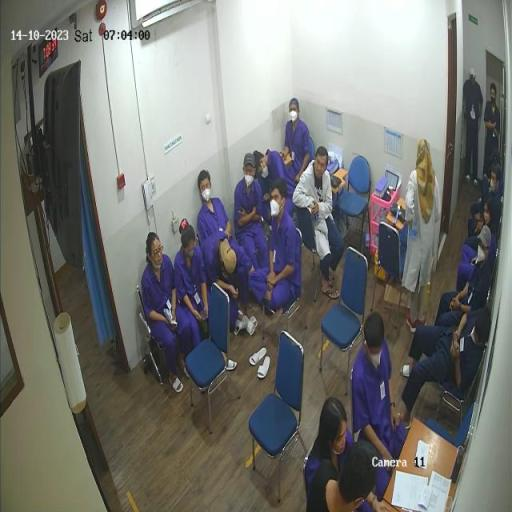person: (399, 308, 492, 429), (353, 312, 410, 500), (304, 398, 391, 512), (294, 147, 347, 295), (143, 232, 192, 391), (406, 140, 442, 334), (235, 154, 277, 315), (249, 182, 298, 318), (199, 170, 256, 277), (435, 227, 493, 328), (201, 231, 255, 336), (307, 443, 378, 512), (175, 219, 212, 350), (457, 196, 498, 294), (254, 150, 295, 232), (283, 99, 312, 196), (479, 84, 501, 203), (464, 69, 485, 187), (469, 166, 502, 239), (472, 148, 505, 220)
